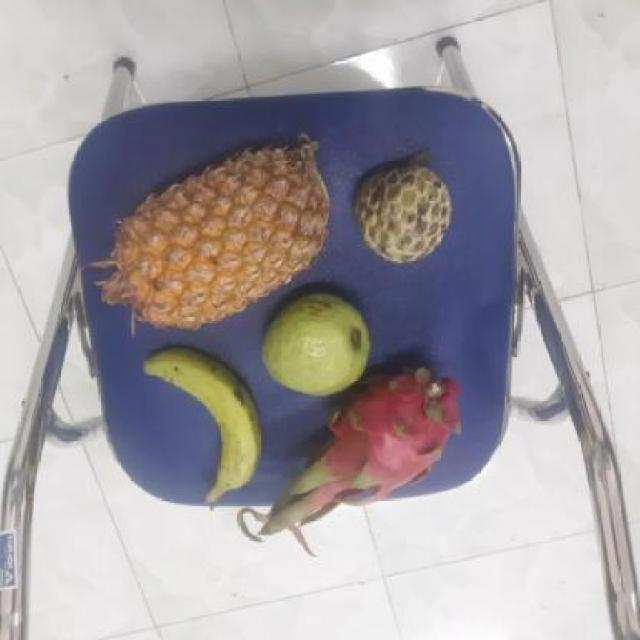banana: (138, 344, 264, 501)
dragon fruit: (292, 363, 452, 508)
guava: (256, 287, 375, 398)
pineapple: (99, 137, 326, 331)
sugar apple: (352, 159, 453, 264)
